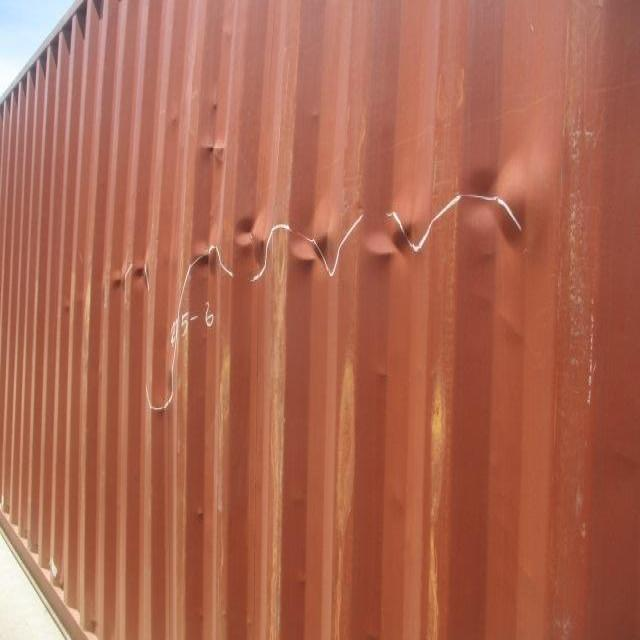dent: (182, 197, 432, 286), (451, 153, 570, 256), (107, 254, 159, 296), (196, 131, 235, 171)
